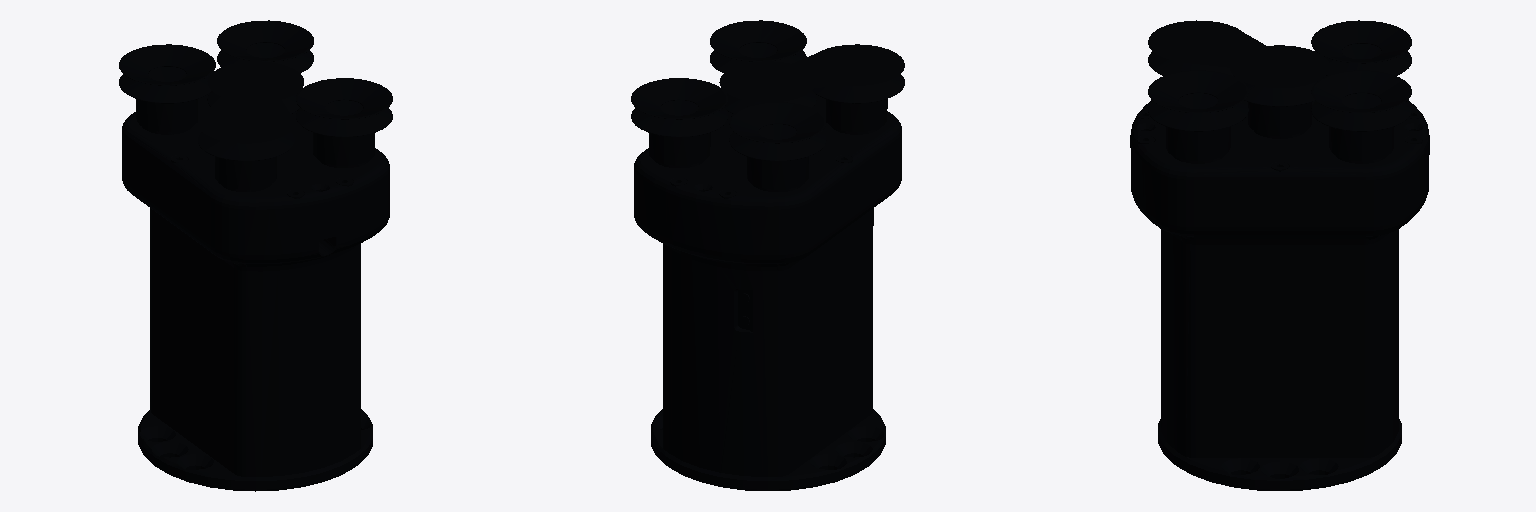
The robot description file, URDF, robot "xarm_vacuum_gripper":
<?xml version='1.0' encoding='utf-8'?>
<robot name="xarm_vacuum_gripper">
  <link name="xarm_vacuum_gripper_link">
    <inertial>
      <origin xyz="0 0 0.055" rpy="0 0 0" />
      <mass value="0.656" />
      <inertia ixx="0.00047106" ixy="0.000000393" ixz="0.000002654" iyy="0.00033072" iyz="-0.000010975" izz="0.00025642" />
    </inertial>
    <visual>
      <origin xyz="0 0 0" rpy="0 0 0" />
      <geometry>
        <mesh filename="xarm_vacuum_gripper_meshes/visual/vacuum_gripper.obj" />
      </geometry>
      <material name="vacuum_gripper_color">
        <color rgba="0.035 0.04 0.05 1" />
      </material>
    </visual>
    <collision>
      <origin xyz="0 0 0" rpy="0 0 0" />
      <geometry>
        <mesh filename="xarm_vacuum_gripper_meshes/collision/vacuum_gripper.obj" />
      </geometry>
    </collision>
  </link>
  <link name="link_tcp" />
  <joint name="joint_tcp" type="fixed">
    <origin xyz="0 0 0.126" rpy="0 0 0" />
    <parent link="xarm_vacuum_gripper_link" />
    <child link="link_tcp" />
  </joint>
</robot>

--- Facts derived from the render (not from the file) ---
Views: 3 orthographic renders of the robot side by side, from view 1: azimuth 30°, elevation 25°; view 2: azimuth 150°, elevation 25°; view 3: azimuth 270°, elevation 25°.
Model xarm_vacuum_gripper with 2 links and 1 joints (1 fixed), rooted at xarm_vacuum_gripper_link, posed every joint at zero.
Visible links, largest first — view 1: xarm_vacuum_gripper_link; view 2: xarm_vacuum_gripper_link; view 3: xarm_vacuum_gripper_link.
Boxes of the visible links, <box> form: xarm_vacuum_gripper_link: <box>119,20,392,491</box>; xarm_vacuum_gripper_link: <box>631,20,904,490</box>; xarm_vacuum_gripper_link: <box>1130,20,1429,490</box>.
Size in the robot's own frame: 0.075 by 0.0916 by 0.1265 metres.
Meshes: 1 distinct files referenced, 1 mesh visuals loaded (1 OBJ).
